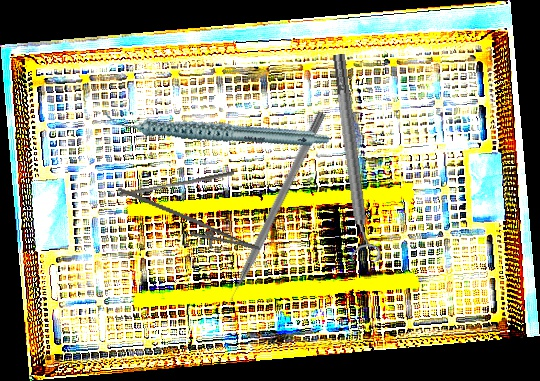Fixation Ring: (323, 52, 383, 265)
Handpiece: (102, 67, 331, 192)
Needle Holder: (109, 186, 266, 263)
Pusher: (217, 109, 327, 317), (119, 166, 235, 201)
